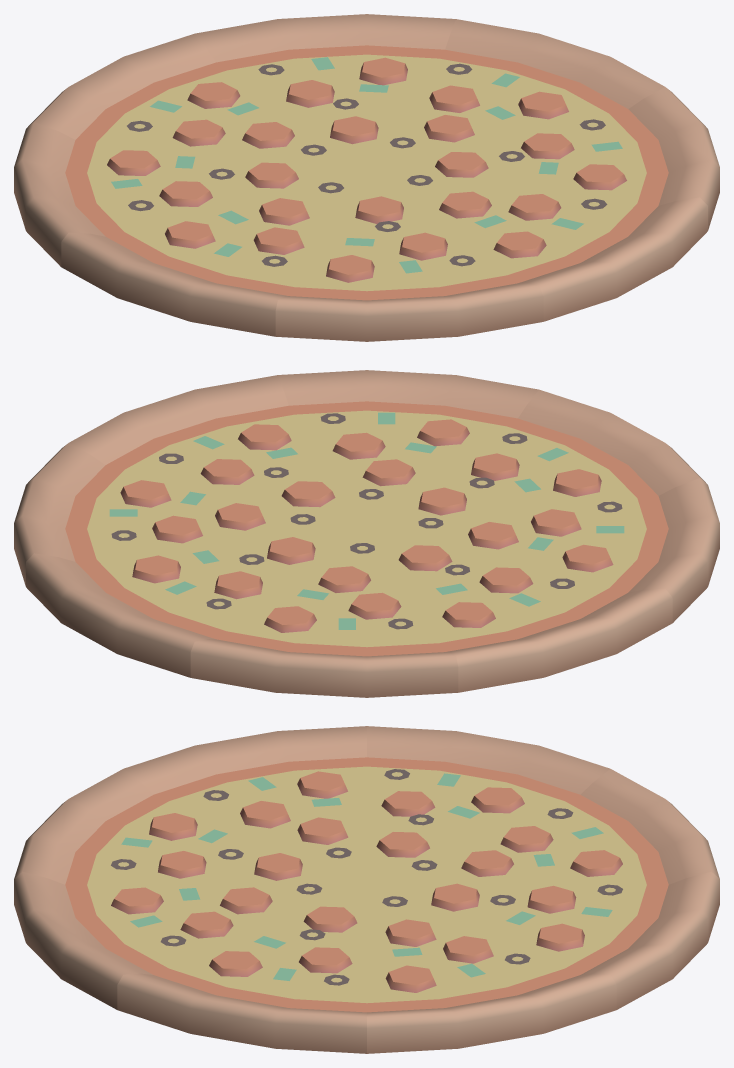
The model's file is pizza.glb.
3 renders of one model, top to bottom at view 1: azimuth 30°, elevation 25°; view 2: azimuth 150°, elevation 25°; view 3: azimuth 270°, elevation 25°, orthographic.
Parts seen in each view (by area): view 1: pizza; view 2: pizza; view 3: pizza.
Part boxes in pixels (x1,y1,x2,y2): pizza: [14, 14, 719, 341]; pizza: [14, 370, 719, 697]; pizza: [14, 726, 719, 1053].
Size of the model in its own units: 0.8418 by 0.0435 by 0.8418.
